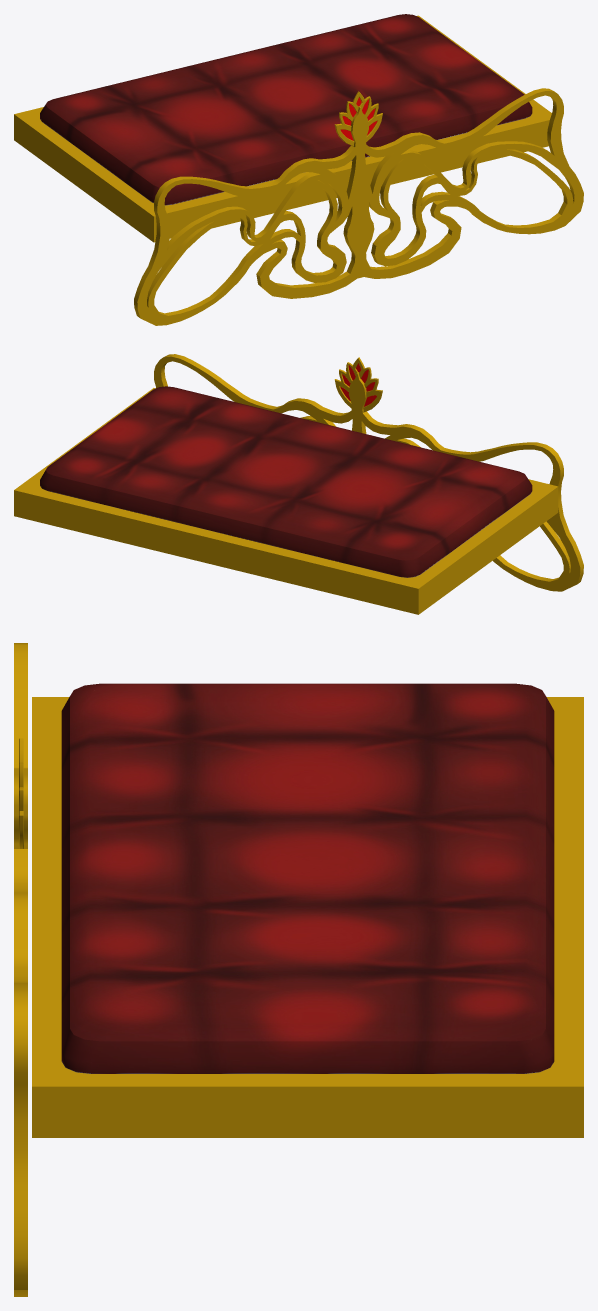
The model's file is newPlatform.fbx.
The picture shows the model from 3 angles, top to bottom: view 1: azimuth 30°, elevation 25°; view 2: azimuth 150°, elevation 25°; view 3: azimuth 270°, elevation 25°; orthographic projection. The views are drawn at different scales.
Parts seen in each view (by area): view 1: Cushion, Railing, PlatformBase, FlowerRim, Flower_Glass; view 2: Cushion, PlatformBase, Railing, FlowerRim, Flower_Glass; view 3: Cushion, PlatformBase, Railing.
Boxes of the visible parts, x1,y1,x2,y2 form: Cushion: (40,14,532,205); Railing: (134,88,583,325); PlatformBase: (14,15,551,242); FlowerRim: (334,91,382,146); Flower_Glass: (340,97,377,140); Cushion: (40,386,532,577); PlatformBase: (14,388,558,614); Railing: (154,354,583,591); FlowerRim: (334,357,382,412); Flower_Glass: (340,363,376,406); Cushion: (61,683,554,1073); PlatformBase: (32,697,583,1137); Railing: (14,643,27,1296).
Size of the model in its own units: 540 by 223 by 303.
